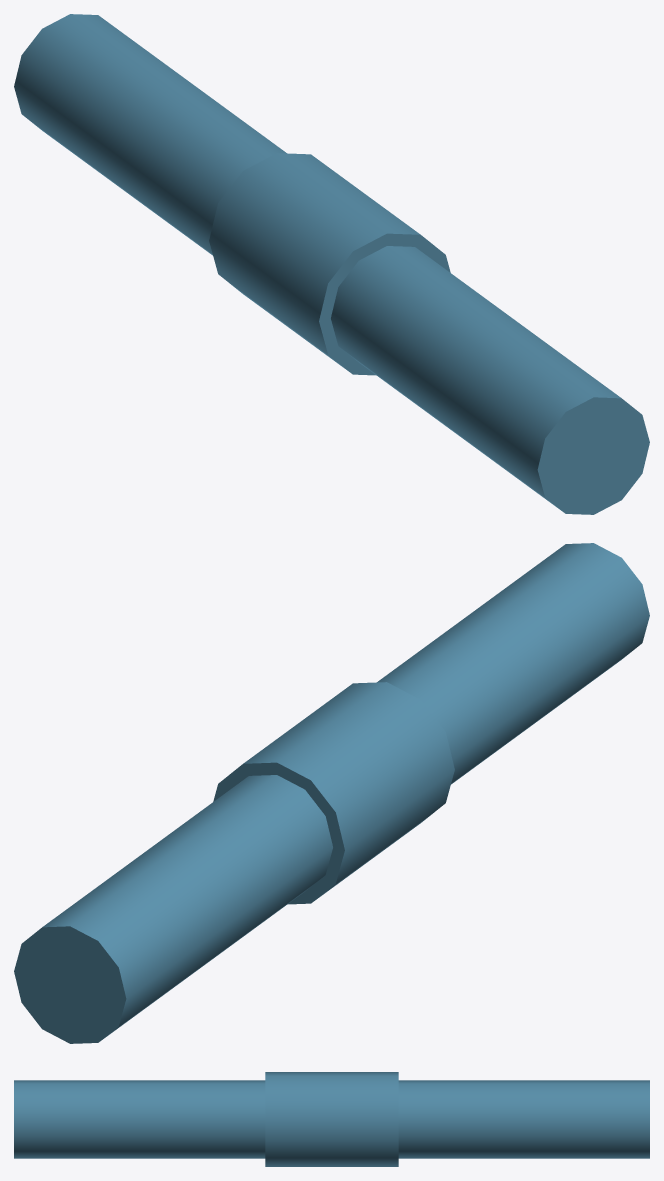
Rendered from GJ_Decor_Pile_03.fbx.
3 renders of one model, top to bottom at view 1: azimuth 30°, elevation 25°; view 2: azimuth 150°, elevation 25°; view 3: azimuth 270°, elevation 25°, orthographic. The views are drawn at different scales.
Visible parts, largest first — view 1: GJ_Decor_Pile_03; view 2: GJ_Decor_Pile_03; view 3: GJ_Decor_Pile_03.
Boxes of the visible parts, box(x1,y1,x2,y2) form: GJ_Decor_Pile_03: box(14, 14, 649, 514); GJ_Decor_Pile_03: box(14, 543, 649, 1043); GJ_Decor_Pile_03: box(14, 1072, 649, 1166).
Bounding box in the file's own units: 5.02 × 5.02 × 33.46.
